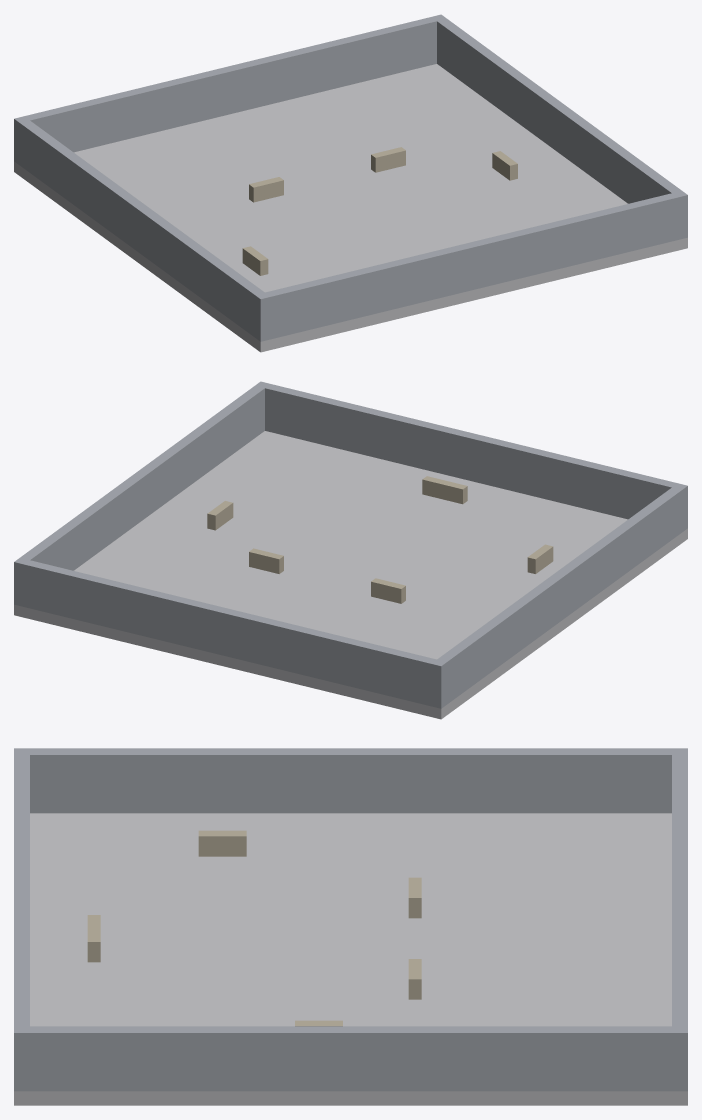
Rendered from arena.glb.
3 renders of one model, top to bottom at view 1: azimuth 30°, elevation 25°; view 2: azimuth 150°, elevation 25°; view 3: azimuth 270°, elevation 25°, orthographic. The views are drawn at different scales.
Parts seen in each view (by area): view 1: floor_node, wall_north_node, wall_south_node, wall_west_node, wall_east_node, crate_02_node, crate_01_node, crate_04_node, crate_03_node; view 2: floor_node, wall_south_node, wall_north_node, wall_west_node, wall_east_node, crate_05_node, crate_02_node, crate_01_node, crate_04_node, crate_03_node; view 3: floor_node, wall_east_node, wall_west_node, wall_south_node, wall_north_node, crate_04_node, crate_05_node, crate_01_node, crate_02_node.
Boxes of the visible parts, left/top/right/bottom form: floor_node: left=14, top=64, right=687, bottom=352; wall_north_node: left=257, top=193, right=687, bottom=340; wall_south_node: left=14, top=16, right=444, bottom=165; wall_west_node: left=14, top=116, right=270, bottom=341; wall_east_node: left=432, top=14, right=687, bottom=239; crate_02_node: left=371, top=147, right=405, bottom=172; crate_01_node: left=249, top=177, right=283, bottom=202; crate_04_node: left=242, top=246, right=268, bottom=275; crate_03_node: left=492, top=151, right=517, bottom=180; floor_node: left=14, top=431, right=687, bottom=719; wall_south_node: left=14, top=560, right=445, bottom=708; wall_north_node: left=257, top=381, right=687, bottom=528; wall_west_node: left=431, top=483, right=687, bottom=708; wall_east_node: left=14, top=381, right=269, bottom=606; crate_05_node: left=422, top=476, right=467, bottom=504; crate_02_node: left=249, top=548, right=283, bottom=573; crate_01_node: left=371, top=578, right=405, bottom=603; crate_04_node: left=527, top=544, right=553, bottom=573; crate_03_node: left=207, top=501, right=233, bottom=530; floor_node: left=14, top=813, right=687, bottom=1105; wall_east_node: left=14, top=1026, right=687, bottom=1091; wall_west_node: left=14, top=748, right=687, bottom=813; wall_south_node: left=672, top=748, right=687, bottom=1091; wall_north_node: left=14, top=749, right=29, bottom=1091; crate_04_node: left=198, top=830, right=246, bottom=856; crate_05_node: left=87, top=915, right=100, bottom=962; crate_01_node: left=408, top=877, right=421, bottom=918; crate_02_node: left=408, top=959, right=421, bottom=999.
Bounding box in the file's own units: 42 × 5 × 42.
